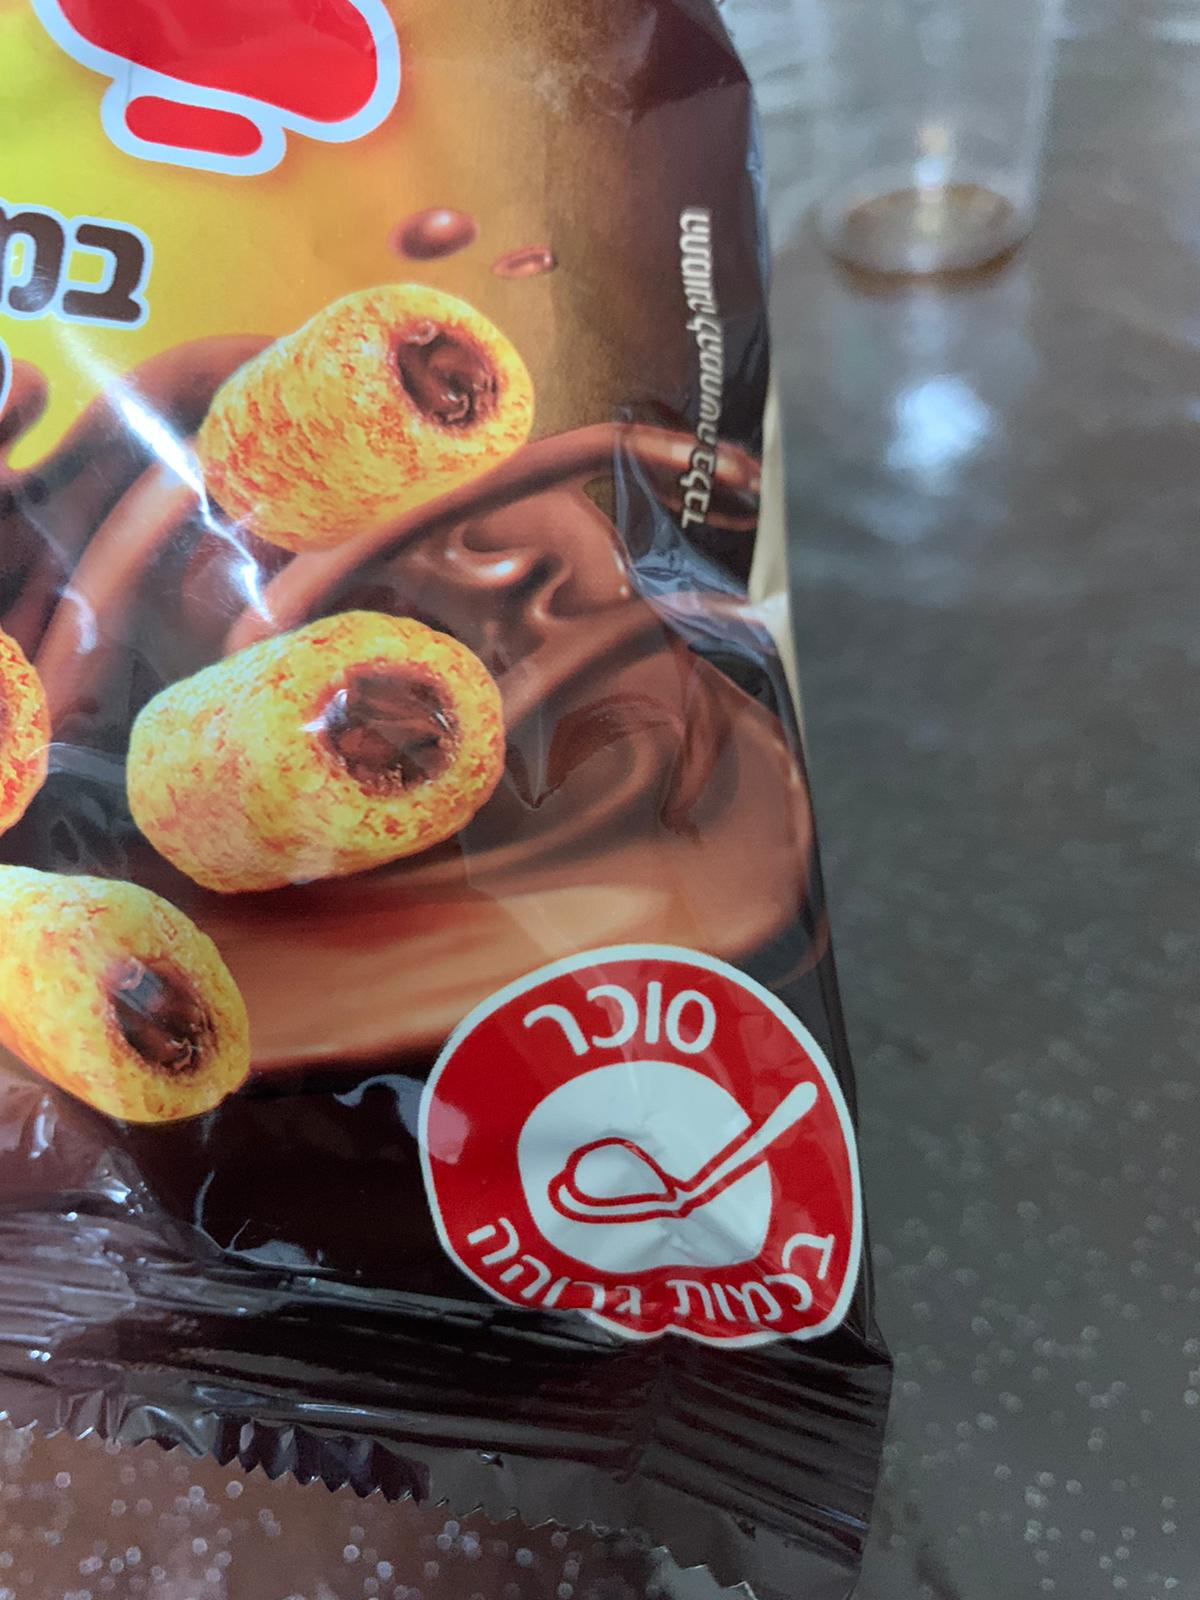sugar: (413, 941, 862, 1351)
